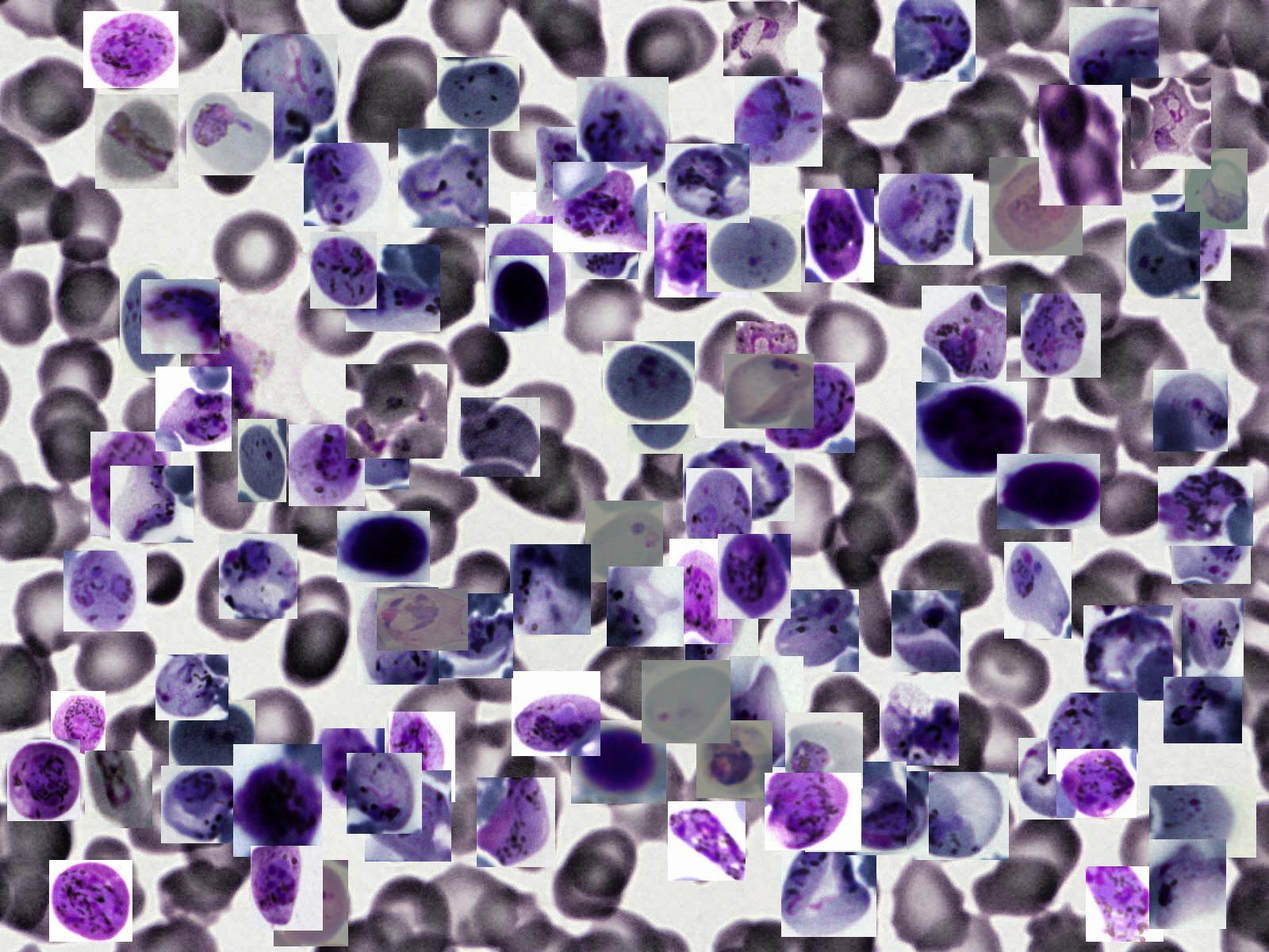Infected: (242, 34, 338, 163), (916, 382, 1027, 478), (233, 744, 322, 857), (1039, 85, 1122, 205), (577, 77, 669, 182), (346, 364, 447, 459), (781, 839, 876, 937), (683, 438, 795, 521), (989, 157, 1083, 255), (805, 762, 907, 852), (398, 129, 489, 228), (194, 327, 283, 426), (1083, 605, 1173, 701), (879, 174, 973, 265), (912, 772, 1009, 860), (553, 162, 647, 252), (654, 212, 752, 298), (90, 432, 171, 536), (734, 72, 822, 167), (346, 244, 440, 332), (729, 656, 803, 767), (1069, 7, 1159, 98), (765, 363, 855, 453), (922, 286, 1006, 382), (571, 720, 666, 804), (358, 587, 439, 685), (365, 770, 451, 862), (95, 94, 178, 189), (1149, 785, 1256, 858), (997, 454, 1100, 529), (603, 341, 695, 424), (1158, 466, 1253, 546), (512, 671, 600, 756), (485, 224, 565, 317), (765, 773, 861, 850), (510, 544, 591, 635), (707, 214, 801, 292), (83, 11, 178, 88), (186, 93, 274, 176), (642, 660, 730, 743), (1048, 693, 1138, 774), (1131, 78, 1211, 169), (169, 700, 255, 784), (536, 127, 616, 216), (880, 676, 959, 766), (845, 771, 929, 855), (304, 143, 389, 226), (774, 589, 859, 672), (477, 777, 555, 867), (1151, 194, 1231, 281), (1149, 839, 1226, 929), (120, 265, 181, 378), (49, 860, 132, 942), (685, 587, 758, 680), (63, 551, 147, 631), (1021, 294, 1101, 378), (665, 144, 750, 223), (895, 0, 976, 82), (219, 534, 297, 619), (669, 539, 732, 644), (337, 511, 430, 582), (1004, 542, 1072, 639), (725, 354, 814, 428), (1018, 738, 1098, 820), (161, 766, 245, 843), (155, 367, 232, 451), (110, 466, 194, 543), (1126, 212, 1200, 299), (805, 189, 874, 282), (274, 860, 348, 946), (461, 397, 540, 477), (585, 501, 663, 582), (439, 593, 513, 678), (668, 801, 746, 881), (607, 566, 684, 647), (289, 424, 365, 506), (718, 534, 791, 619), (687, 468, 753, 562), (251, 846, 323, 931), (347, 753, 422, 834), (1153, 370, 1228, 451), (437, 57, 519, 131), (389, 712, 455, 803), (696, 720, 773, 798), (785, 712, 863, 789), (7, 739, 80, 821), (1086, 866, 1164, 942), (141, 279, 220, 354), (891, 591, 960, 673), (377, 589, 468, 651), (315, 728, 385, 808), (1056, 749, 1137, 818), (723, 2, 798, 76), (1171, 516, 1251, 584), (571, 198, 638, 279), (337, 415, 409, 489), (85, 750, 152, 828), (627, 378, 695, 454), (310, 232, 377, 309), (1164, 677, 1242, 743), (1185, 148, 1248, 229), (1182, 598, 1244, 677), (736, 321, 805, 390), (156, 654, 228, 720), (489, 255, 549, 332), (511, 192, 589, 251), (238, 419, 286, 502), (51, 691, 105, 756)
Uninfected: (838, 432, 921, 555), (387, 230, 480, 336), (955, 259, 1070, 344), (582, 639, 694, 725), (893, 539, 995, 631), (1058, 220, 1162, 309), (1072, 314, 1166, 412), (792, 120, 883, 220), (799, 298, 891, 396), (1066, 547, 1155, 647), (27, 384, 111, 489), (903, 216, 983, 324), (13, 563, 103, 658), (611, 744, 690, 852), (1091, 109, 1184, 200), (622, 5, 718, 92), (961, 627, 1049, 721), (209, 209, 301, 298), (419, 865, 516, 949), (358, 34, 448, 123), (853, 221, 943, 310), (680, 753, 770, 842), (1102, 45, 1198, 127), (1023, 413, 1121, 493), (815, 35, 901, 126), (386, 674, 485, 753), (42, 177, 125, 271), (231, 685, 314, 779), (1033, 573, 1142, 644), (889, 858, 972, 951), (492, 96, 579, 184), (957, 698, 1043, 787), (759, 464, 834, 565), (999, 814, 1082, 905), (807, 672, 894, 758), (899, 694, 988, 778), (515, 446, 608, 526), (753, 219, 829, 316), (194, 551, 275, 642), (372, 453, 482, 520), (1118, 397, 1213, 474), (561, 273, 645, 360), (613, 466, 686, 566), (687, 571, 776, 653), (66, 623, 162, 699), (1139, 571, 1215, 667), (348, 67, 424, 162), (424, 205, 527, 275), (33, 336, 118, 420), (194, 437, 266, 535), (1118, 812, 1204, 894), (968, 56, 1073, 123), (700, 311, 778, 401), (444, 724, 536, 800), (372, 340, 455, 424), (1079, 466, 1175, 537), (140, 2, 232, 76), (120, 368, 198, 455), (943, 76, 1032, 151), (972, 359, 1050, 443), (266, 466, 343, 551), (20, 56, 101, 136), (537, 0, 611, 87), (955, 114, 1037, 192), (484, 426, 568, 502), (841, 547, 898, 658), (491, 379, 574, 455), (918, 109, 1001, 185), (55, 274, 140, 347), (187, 805, 255, 896), (444, 547, 512, 638), (372, 498, 460, 568), (300, 278, 375, 360), (819, 504, 895, 584), (499, 743, 565, 834), (897, 117, 964, 206), (438, 320, 516, 396), (968, 854, 1059, 919), (125, 787, 213, 854), (830, 412, 903, 492), (265, 67, 332, 154), (11, 785, 78, 872), (542, 549, 613, 631), (82, 836, 147, 925), (1045, 254, 1121, 330), (432, 774, 503, 855), (11, 876, 93, 946), (138, 691, 223, 758), (976, 486, 1050, 562), (236, 82, 306, 162), (100, 708, 174, 783), (1179, 60, 1242, 148), (158, 860, 236, 931), (550, 852, 623, 927), (565, 820, 638, 894), (54, 236, 113, 327), (642, 420, 707, 501), (640, 243, 718, 310), (194, 397, 252, 486), (649, 132, 727, 198), (736, 33, 798, 116), (20, 486, 90, 559), (458, 641, 540, 703), (194, 125, 263, 194), (283, 577, 355, 643), (285, 609, 348, 684), (839, 143, 918, 198), (118, 553, 186, 608)
